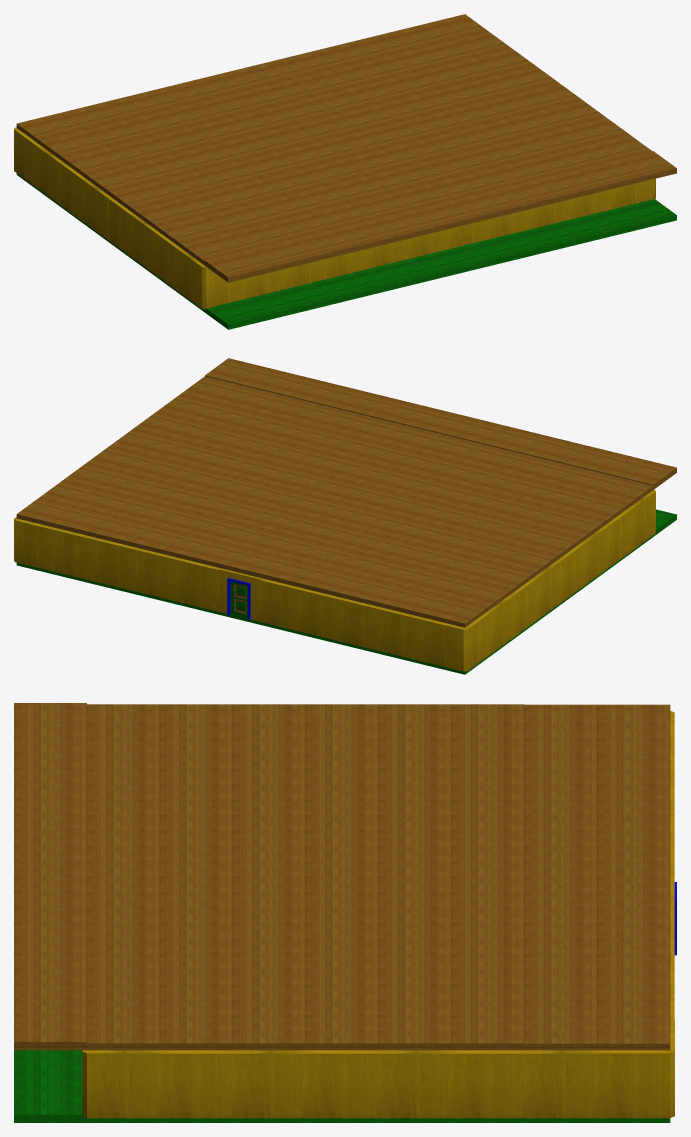
File: secure_area.glb
3 renders of one model, top to bottom at view 1: azimuth 30°, elevation 25°; view 2: azimuth 150°, elevation 25°; view 3: azimuth 270°, elevation 25°, orthographic. The views are drawn at different scales.
Parts seen in each view (by area): view 1: mergedBlocks(Clone); view 2: mergedBlocks(Clone); view 3: mergedBlocks(Clone).
Part boxes in pixels (left/top/right/bottom): mergedBlocks(Clone): left=14, top=14, right=676, bottom=329; mergedBlocks(Clone): left=14, top=358, right=676, bottom=674; mergedBlocks(Clone): left=14, top=703, right=676, bottom=1122.
Bounding box in the file's own units: 44.5 × 4.89 × 36.37.
9 materials, 4 textured.
